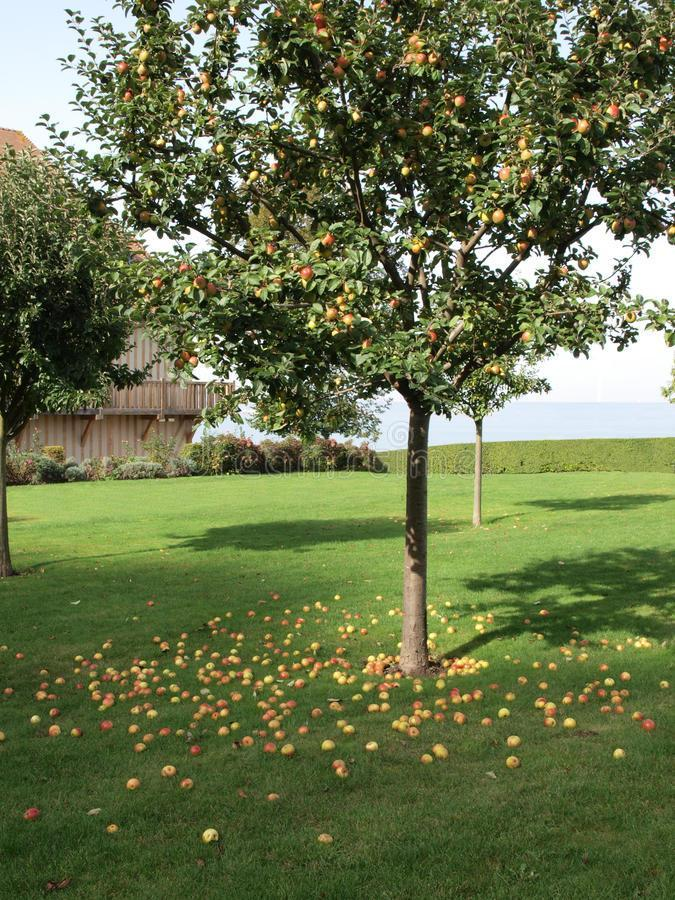apple: (506, 755, 521, 770), (126, 778, 141, 792), (542, 717, 556, 729), (241, 734, 253, 748), (408, 727, 420, 738)
